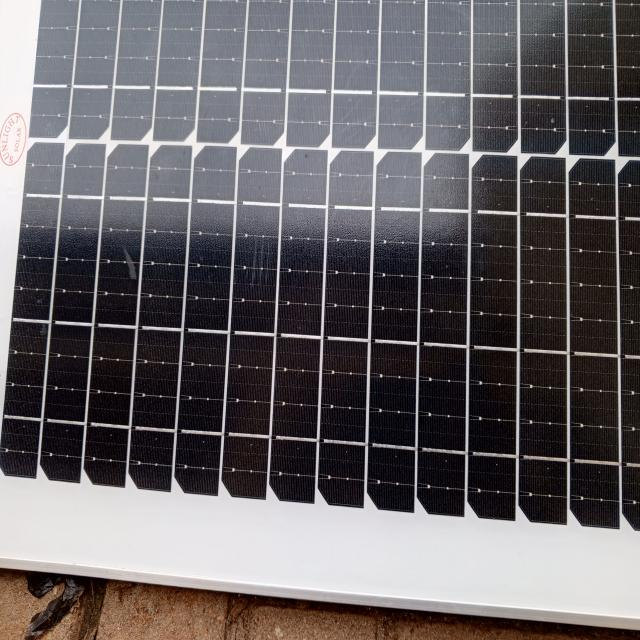Clean: (9, 0, 640, 544)
